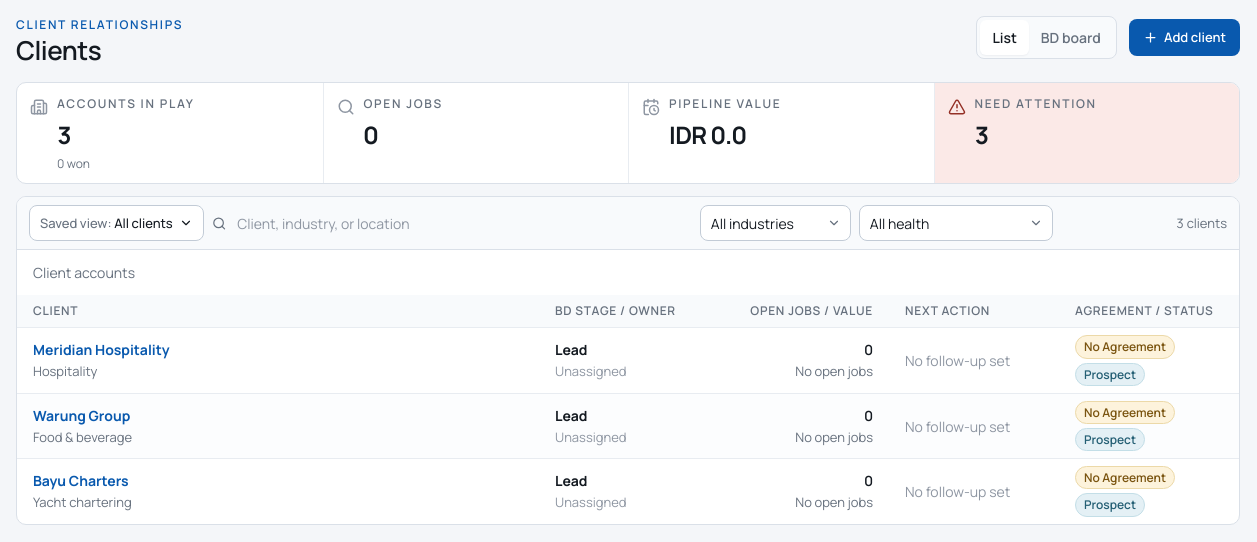
Test: ClientsPage industry › groups a legacy spelling under the option a consultant picks today
Select "Food & beverage" in the dropdown named "Filter by industry" at (775, 224), box left=700, top=206, right=851, bottom=242
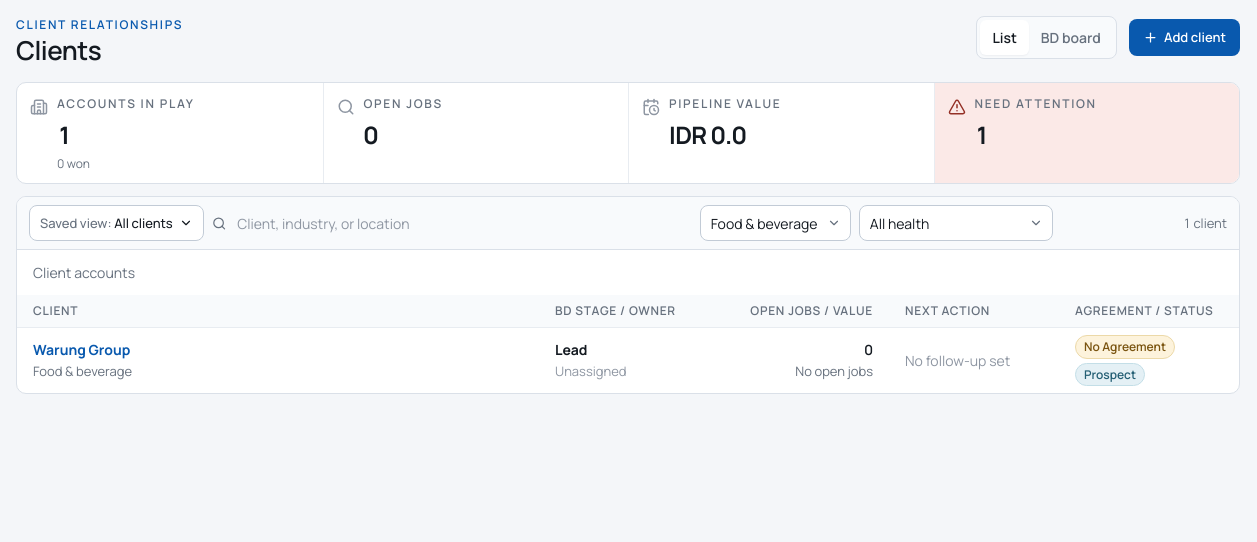
Expected: the text "Warung Group" is shown, left=33, top=340, right=130, bottom=359
Now the link "Meridian Hospitality" is gone
Now the text "1 client" is shown, box left=1183, top=214, right=1227, bottom=233
